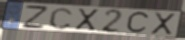2: (99, 8, 124, 35)
C: (125, 11, 152, 36), (47, 7, 74, 31)
X: (74, 8, 101, 32), (151, 12, 177, 36)
Z: (21, 4, 49, 30)
